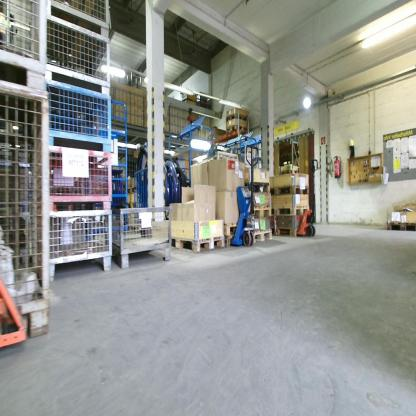pallet: (169, 234, 225, 257), (267, 184, 310, 197), (271, 206, 311, 217), (222, 221, 246, 237), (251, 228, 273, 245), (273, 228, 306, 239), (245, 182, 269, 197), (386, 219, 415, 231), (249, 205, 271, 219), (226, 124, 251, 136), (223, 235, 241, 250), (224, 115, 250, 125)
pallet_truck: (275, 157, 319, 235), (231, 142, 260, 250), (1, 272, 26, 354)
stillage: (1, 80, 54, 345), (42, 13, 110, 107), (28, 207, 115, 280), (32, 143, 114, 210), (42, 0, 109, 80), (90, 204, 172, 269), (44, 77, 113, 154), (1, 0, 50, 93)
